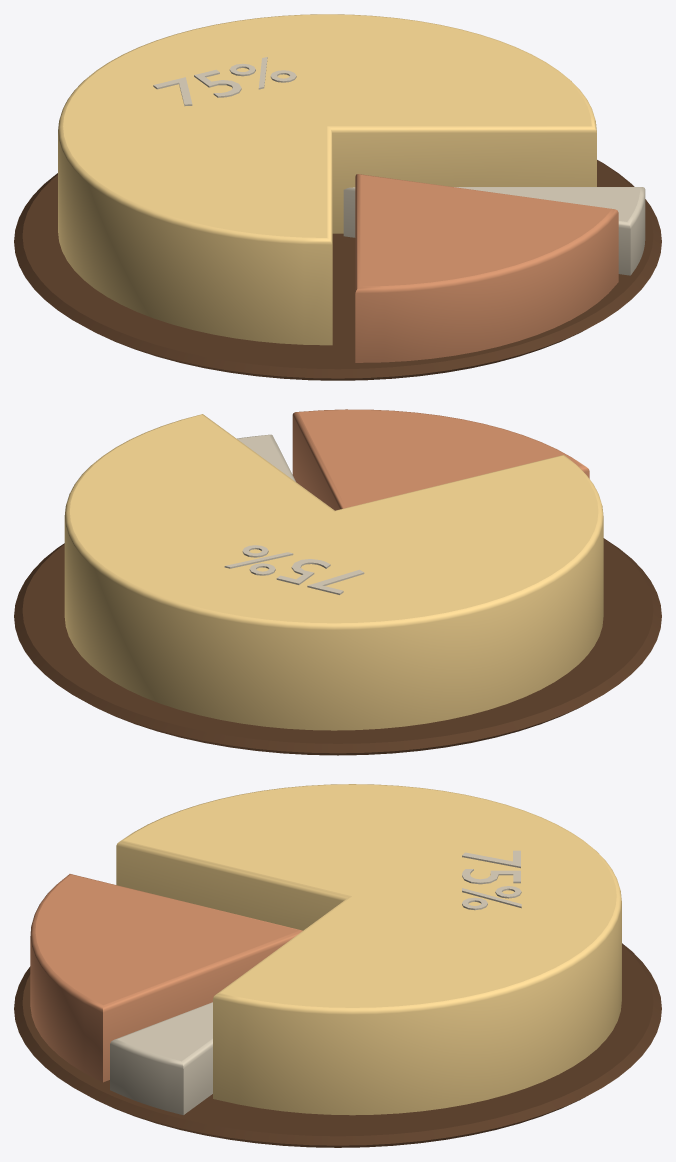
The model's file is pie.glb.
The picture shows the model from 3 angles, top to bottom: view 1: azimuth 30°, elevation 25°; view 2: azimuth 150°, elevation 25°; view 3: azimuth 270°, elevation 25°; orthographic projection.
Parts seen in each view (by area): view 1: slice, slice.001, base, slice.002, pct; view 2: slice, base, slice.001, pct, slice.002; view 3: slice, slice.001, base, slice.002, pct.
Boxes of the visible parts, x1=… form: slice: x1=58, y1=14, x2=596, y2=345; slice.001: x1=355, y1=174, x2=618, y2=362; base: x1=14, y1=160, x2=661, y2=380; slice.002: x1=343, y1=187, x2=645, y2=275; pct: x1=153, y1=57, x2=296, y2=106; slice: x1=64, y1=414, x2=603, y2=730; base: x1=14, y1=538, x2=661, y2=755; slice.001: x1=292, y1=409, x2=589, y2=510; pct: x1=224, y1=545, x2=364, y2=594; slice.002: x1=237, y1=434, x2=295, y2=481; slice: x1=116, y1=784, x2=621, y2=1115; slice.001: x1=30, y1=874, x2=302, y2=1082; base: x1=14, y1=943, x2=661, y2=1147; slice.002: x1=110, y1=1002, x2=212, y2=1115; pct: x1=462, y1=850, x2=521, y2=910.
Size of the model in its own units: 1.52 by 0.306 by 1.52.
